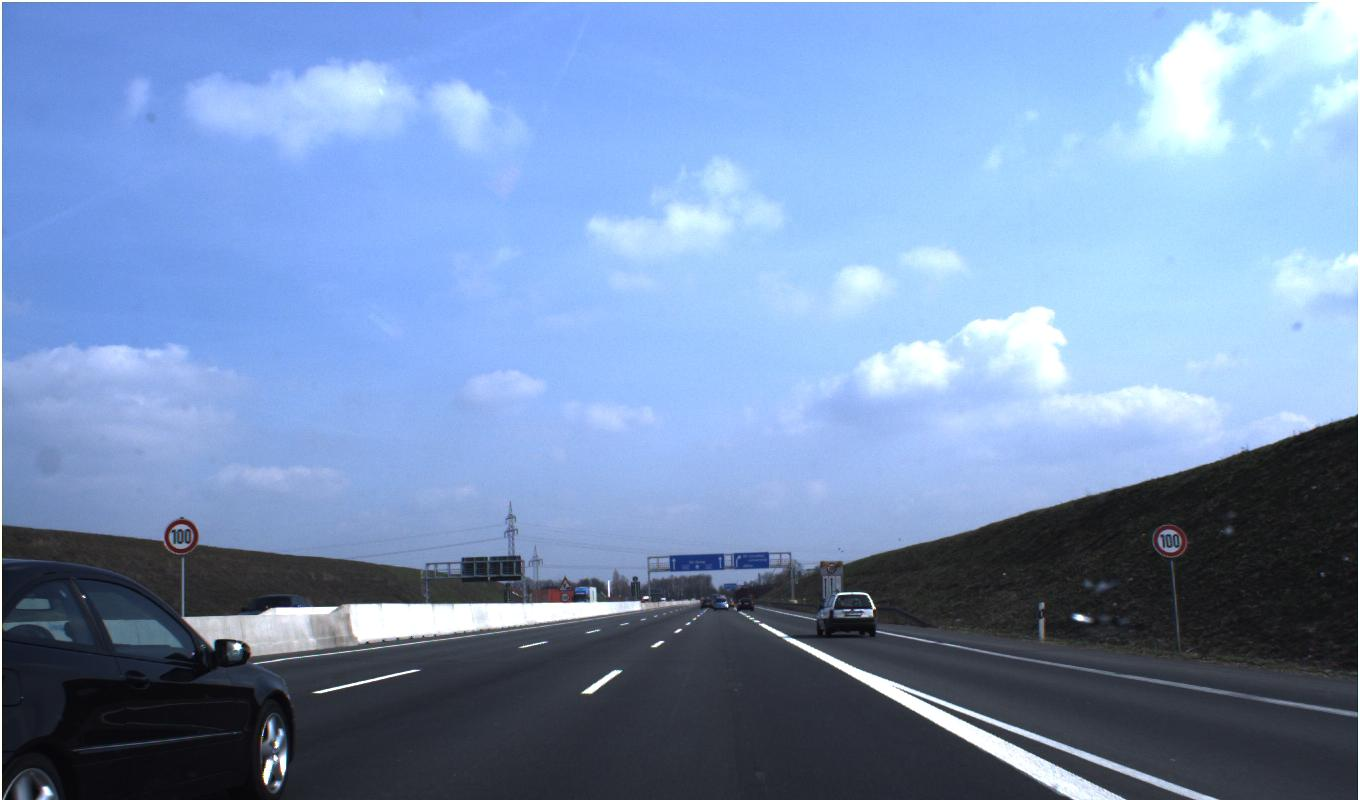prohibitory: (163, 518, 199, 555), (1152, 523, 1187, 558)
